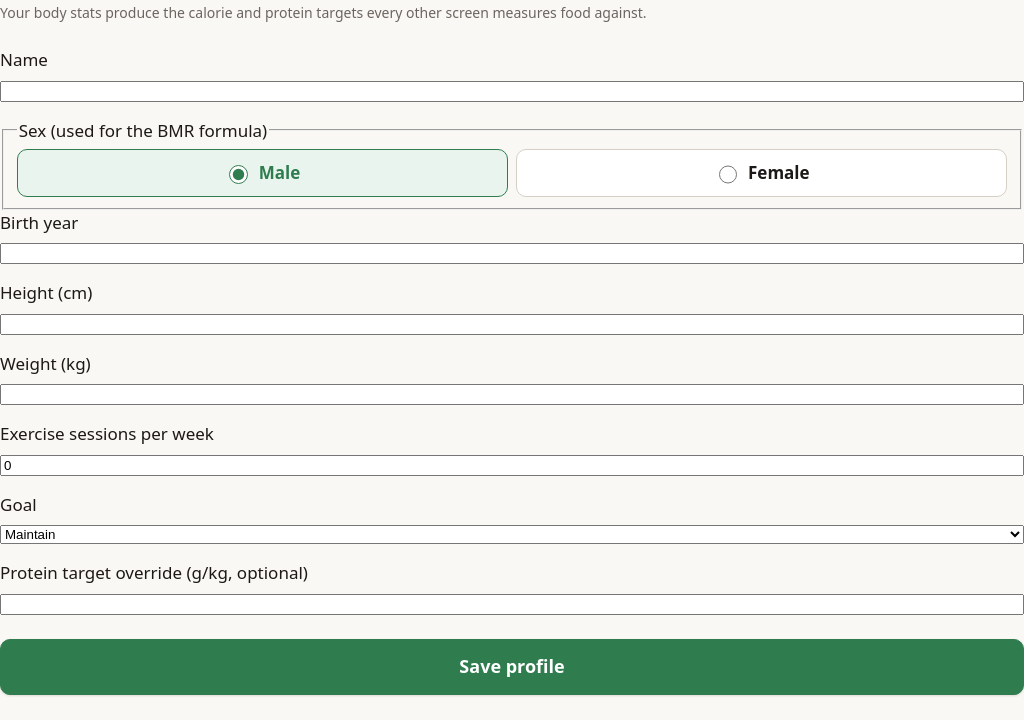
Test: ProfileForm › shows the computed targets as the form is filled in
In the field labelled "Name": (512, 91) 0,80 -> 1023,102, type "Ryan"
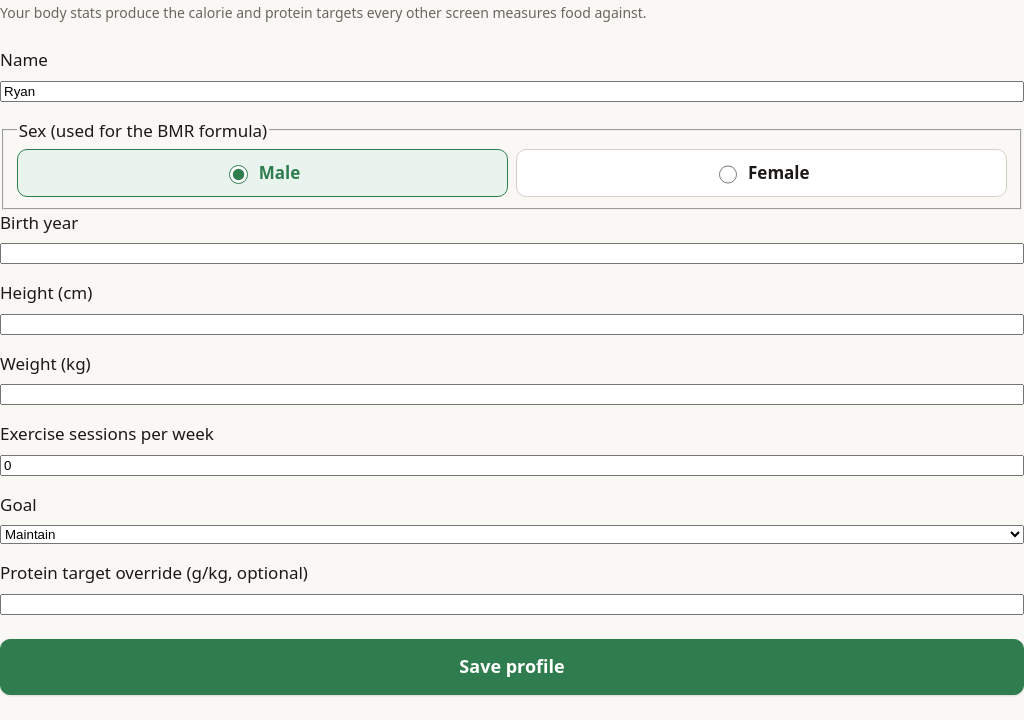
In the number field labelled "Birth year": (512, 254) 0,243 -> 1023,264, type "1996"
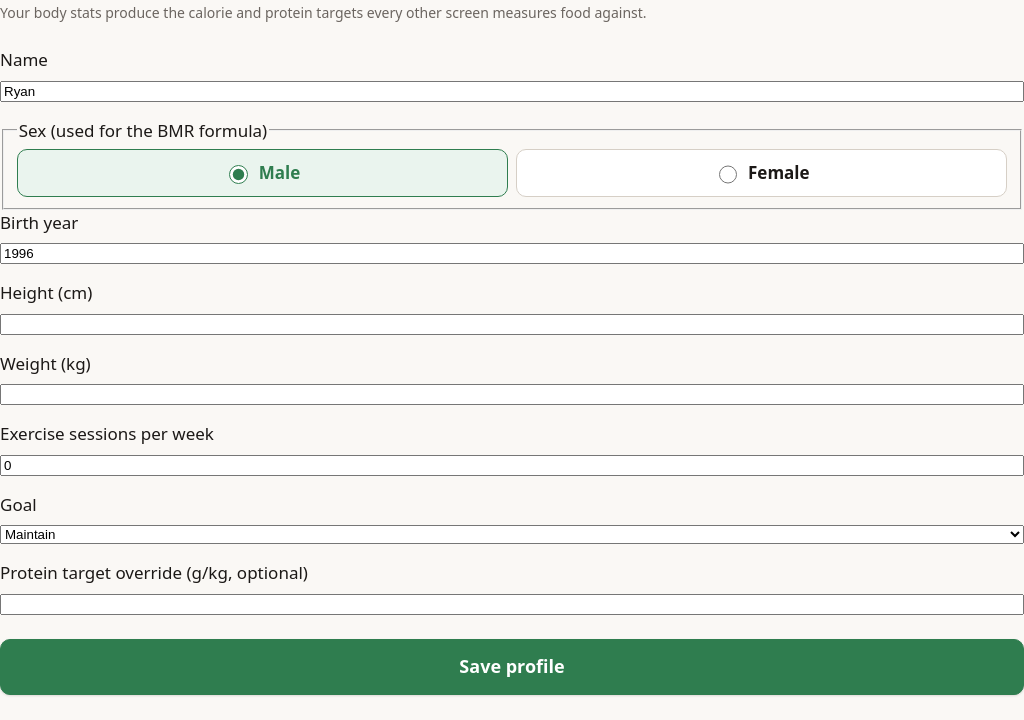
In the number field labelled "Height (cm)": (512, 324) 0,314 -> 1023,335, type "175"
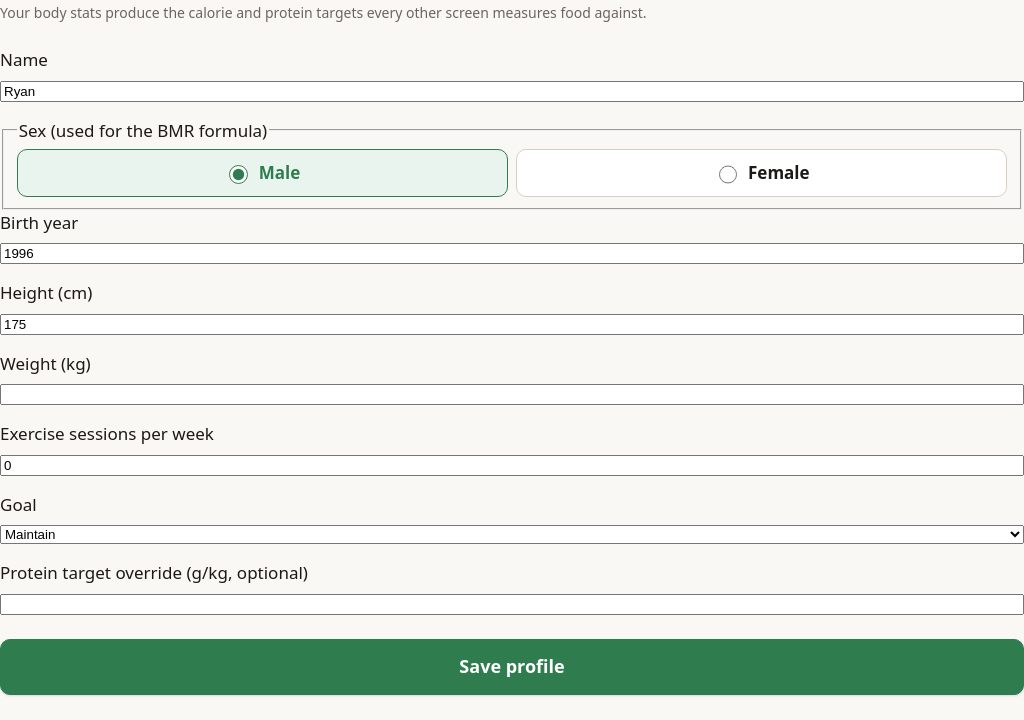
In the number field labelled "Weight (kg)": (512, 395) 0,384 -> 1023,405, type "75"
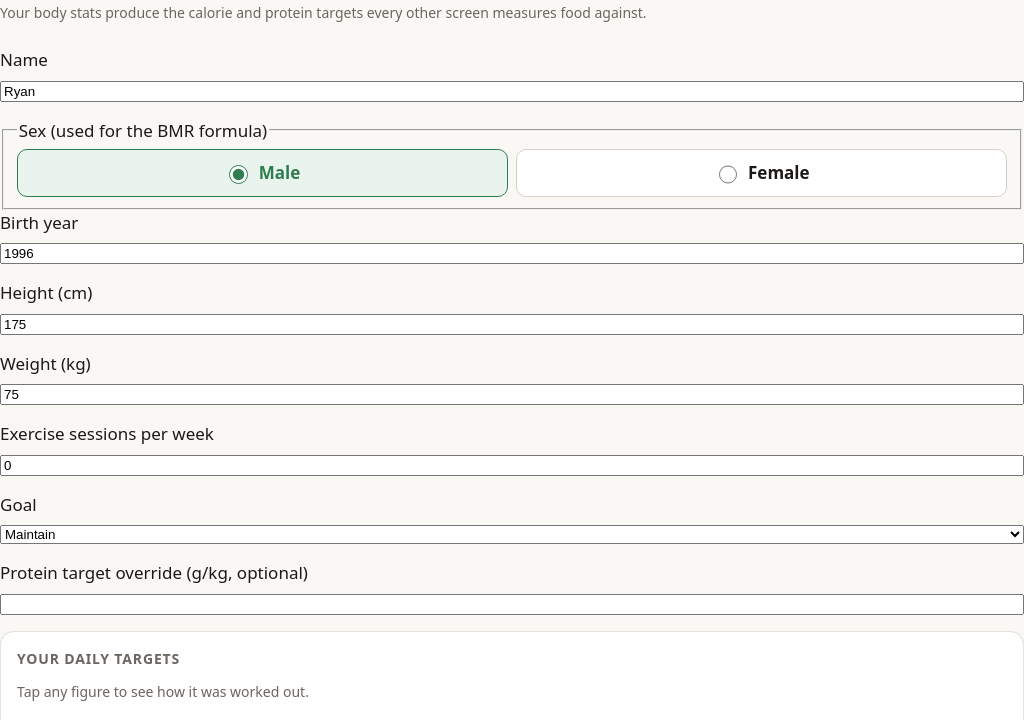
Replace the text in the number field labelled "Exercise sessions per week" with "4": (512, 465) 0,455 -> 1023,476
(page scrolled)
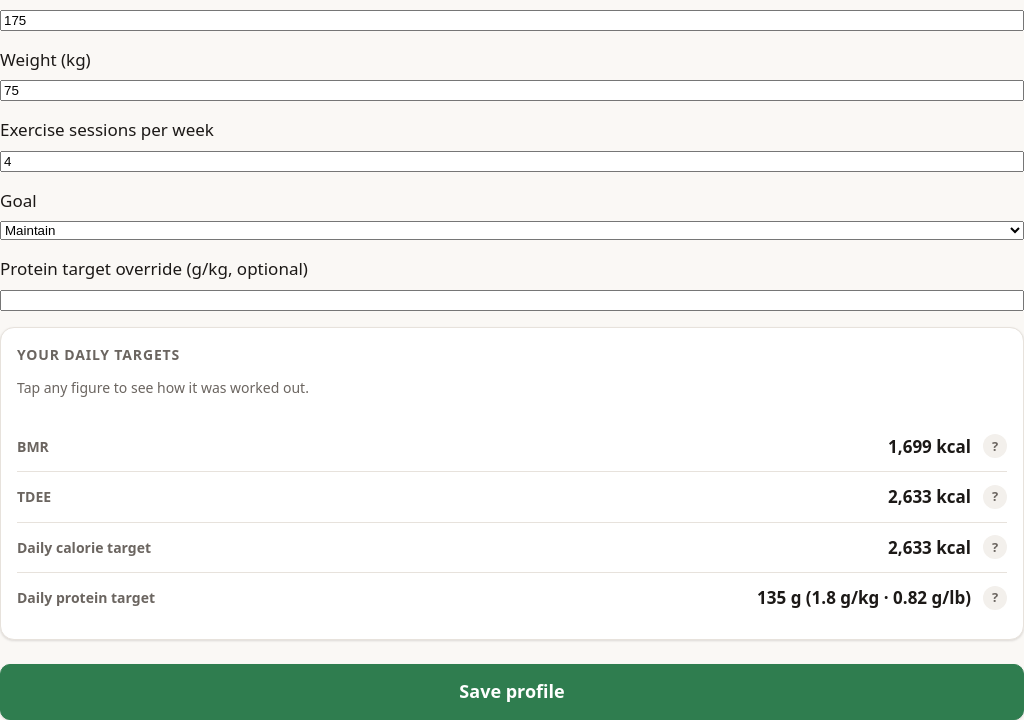
Now the text with test id "tdee" shows "2,633", box 888,485 -> 971,508
Now the text with test id "calorie-target" shows "2,633", box 888,536 -> 971,559
